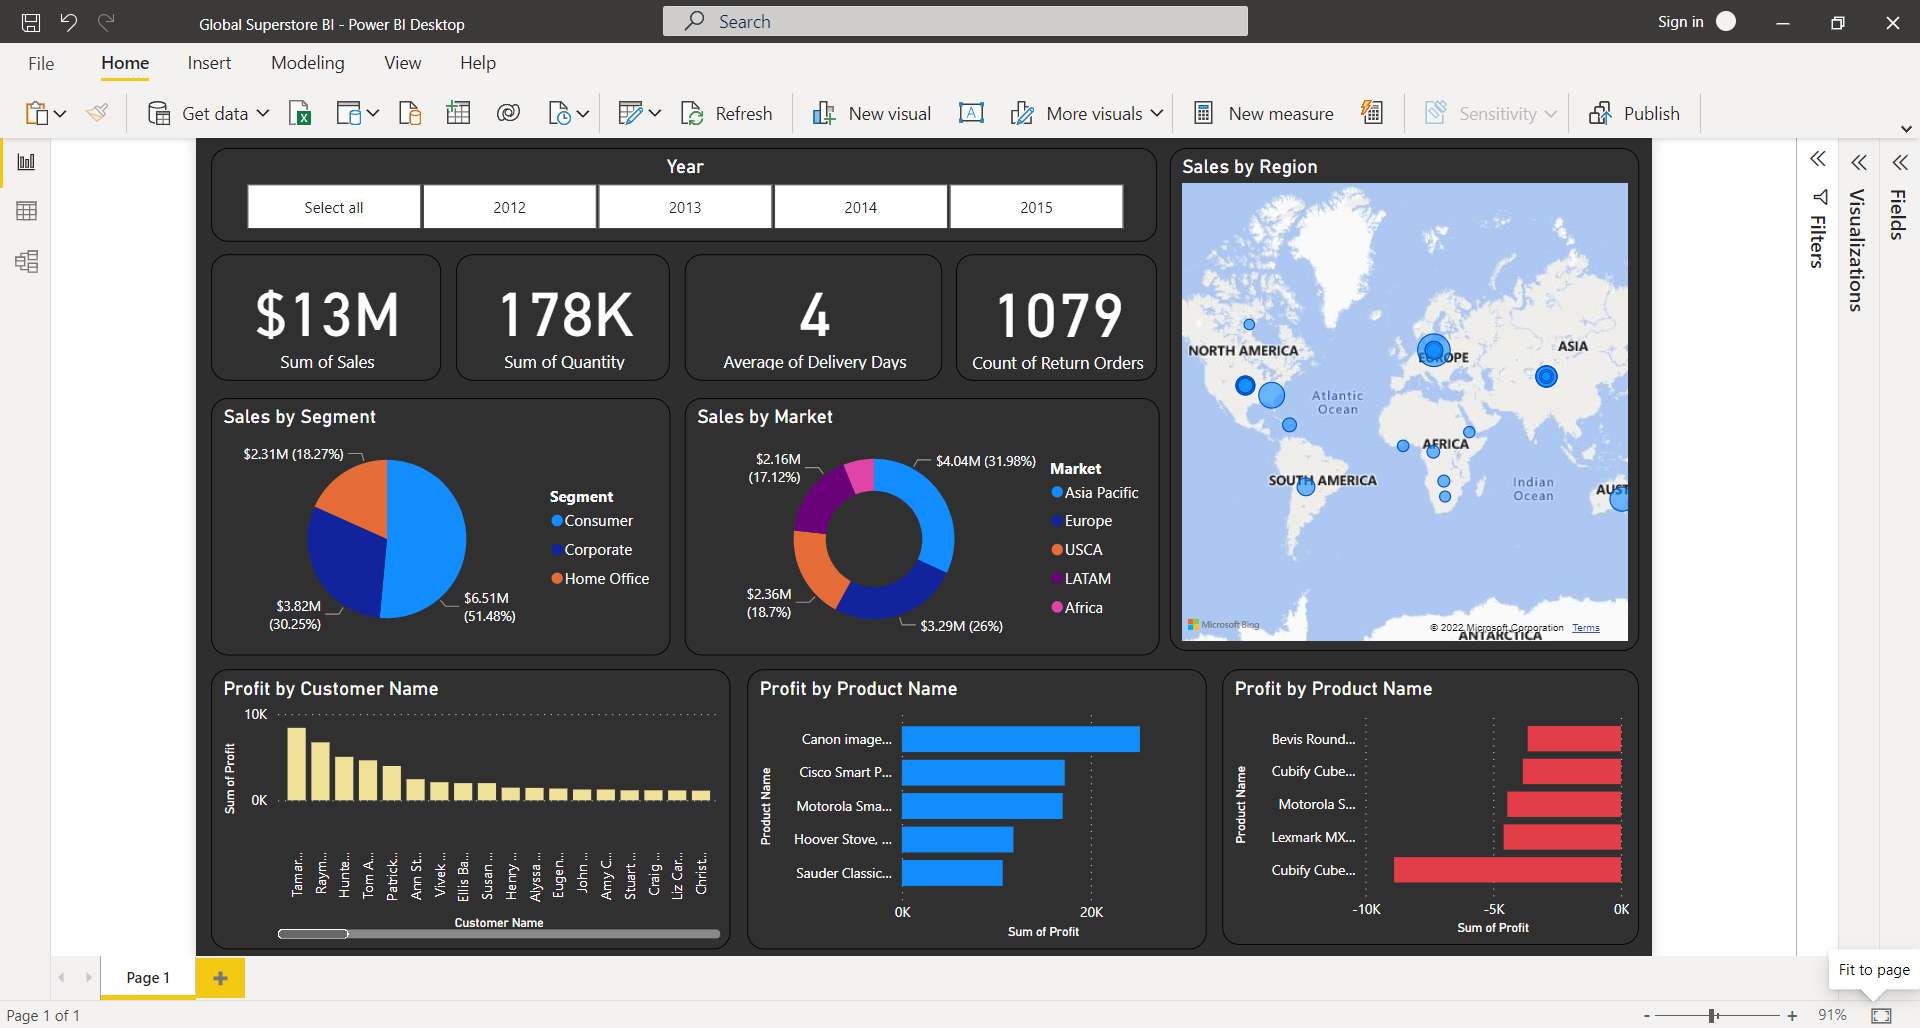

The dashboard page shown, as its layout file describes it:
{"tool":"powerbi","page":{"name":"Page 1","canvas":[1280,720],"ordinal":0},"visuals":[{"type":"card","fields":{"Values":["Orders.Sales"]},"box":[13.3,102.5,202.6,111],"z":0},{"type":"card","fields":{"Values":["Orders.Quantity"]},"box":[229.1,102.5,188.1,111],"z":1000},{"type":"card","fields":{"Values":["Orders.Delivery Days"]},"box":[429.3,102.5,226.7,111],"z":2000},{"type":"slicer","title":"Year","fields":{"Values":["Orders.Year"]},"box":[13.3,8.4,832.2,82],"z":3000},{"type":"map","title":"Sales by Region","fields":{"Size":["Orders.Sales"],"Category":["Orders.Region"]},"box":[856.3,8.4,412.5,442.6],"z":5000},{"type":"clusteredBarChart","title":"Profit by Product Name","fields":{"Category":["Orders.Product Name"],"Y":["Orders.Profit"]},"box":[484.8,466.7,404,246],"z":6000},{"type":"clusteredBarChart","title":"Profit by Product Name","fields":{"Category":["Orders.Product Name"],"Y":["Orders.Profit"]},"box":[902.1,466.7,366.6,242.4],"z":7000},{"type":"pieChart","title":"Sales by Segment","fields":{"Category":["Orders.Segment"],"Y":["Orders.Sales"]},"box":[13.3,229.1,404,226.7],"z":8000},{"type":"donutChart","title":"Sales by Market","fields":{"Y":["Orders.Sales"],"Category":["Orders.Market"]},"box":[429.3,229.1,417.3,226.7],"z":9000},{"type":"clusteredColumnChart","title":"Profit by Customer Name","fields":{"Category":["Orders.Customer Name"],"Y":["Orders.Profit"]},"box":[13.3,466.7,457.1,246],"z":10000},{"type":"card","fields":{"Values":["Returns.Return Orders"]},"box":[668.3,102.2,177,111],"z":10001}]}

Visuals, with their boxes on the page's 1280x720 design canvas (x1, y1, x2, y2). These are canvas units, not pixel positions in the 1920x1028 screenshot, which may show the page scaled, cropped or inside an application window:
card - Orders.Sales: left=13, top=102, right=216, bottom=214
card - Orders.Quantity: left=229, top=102, right=417, bottom=214
card - Orders.Delivery Days: left=429, top=102, right=656, bottom=214
"Year" slicer: left=13, top=8, right=846, bottom=90
"Sales by Region" map: left=856, top=8, right=1269, bottom=451
"Profit by Product Name" clusteredBarChart: left=485, top=467, right=889, bottom=713
"Profit by Product Name" clusteredBarChart: left=902, top=467, right=1269, bottom=709
"Sales by Segment" pieChart: left=13, top=229, right=417, bottom=456
"Sales by Market" donutChart: left=429, top=229, right=847, bottom=456
"Profit by Customer Name" clusteredColumnChart: left=13, top=467, right=470, bottom=713
card - Returns.Return Orders: left=668, top=102, right=845, bottom=213
